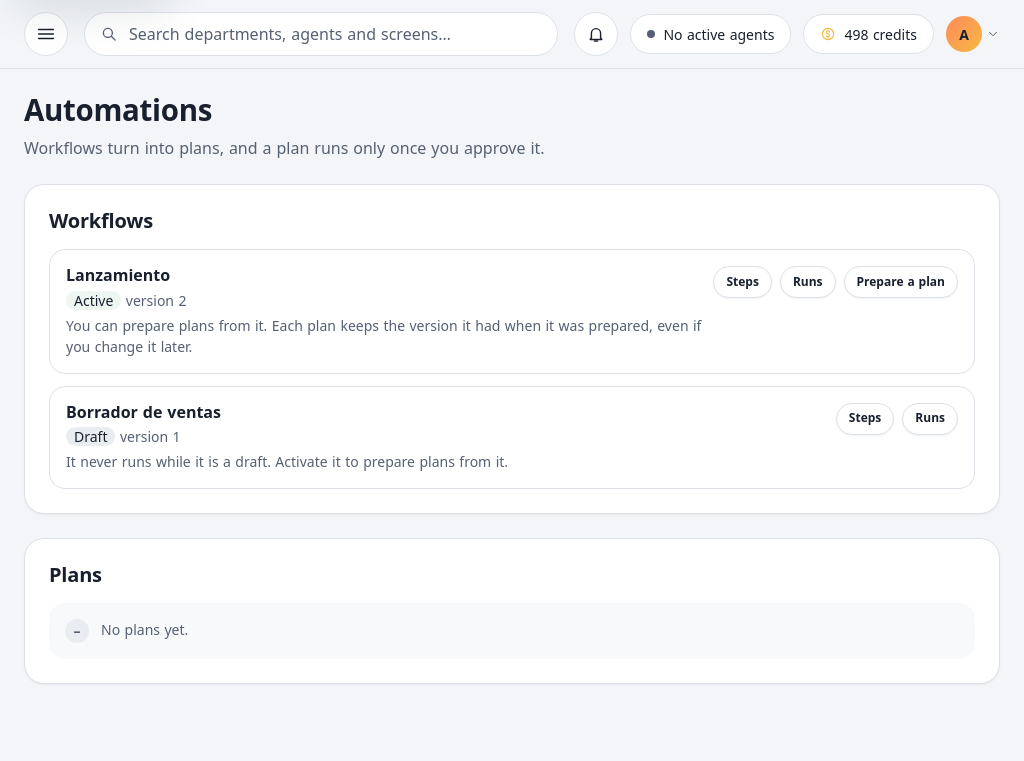
Test: Automations (WF-3) › says plainly why a plan was refused when the reason is one a person can act on
Step 1. Click the button "Prepare a plan" → (901, 282), box [844,266,958,298]
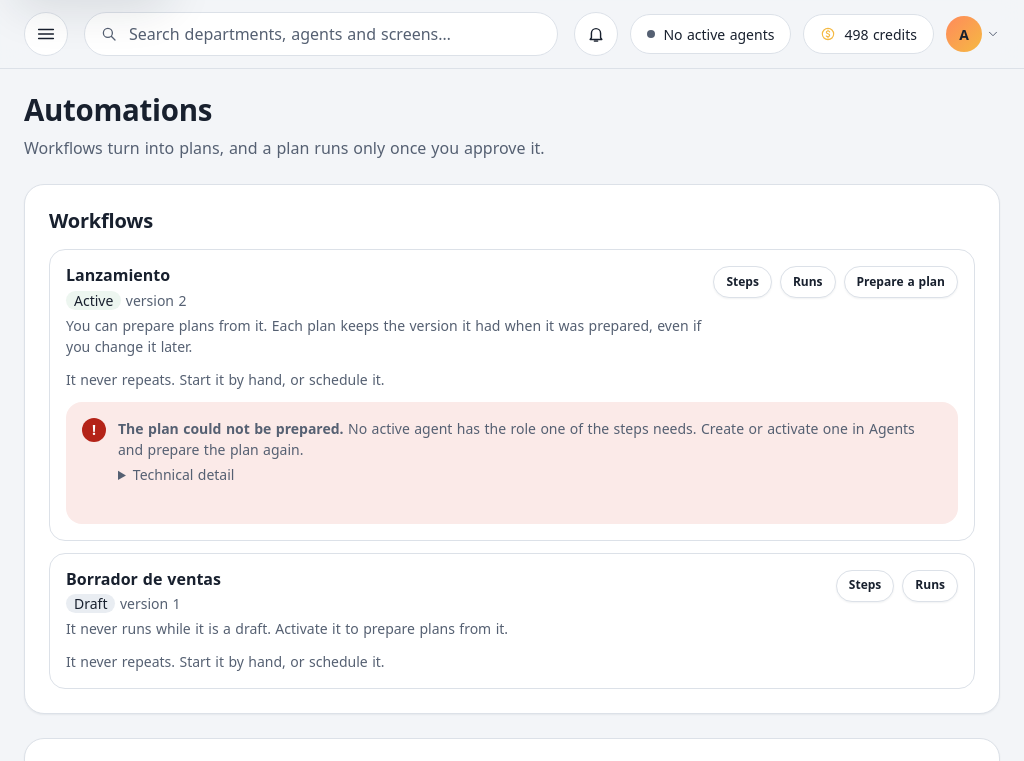
Now the text "No active agent has the role one of the steps needs." shows "Create or activate one in Agents and prepare the plan again.", box [118,418,915,458]
